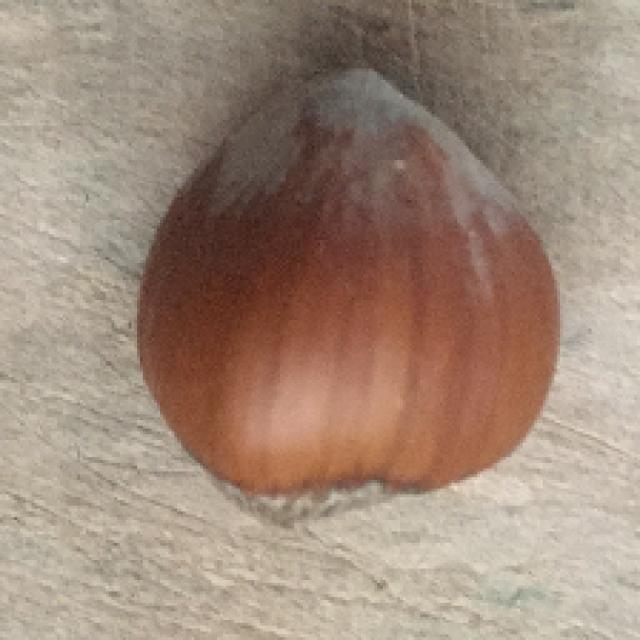qualityHazelnut: (136, 44, 560, 544)
